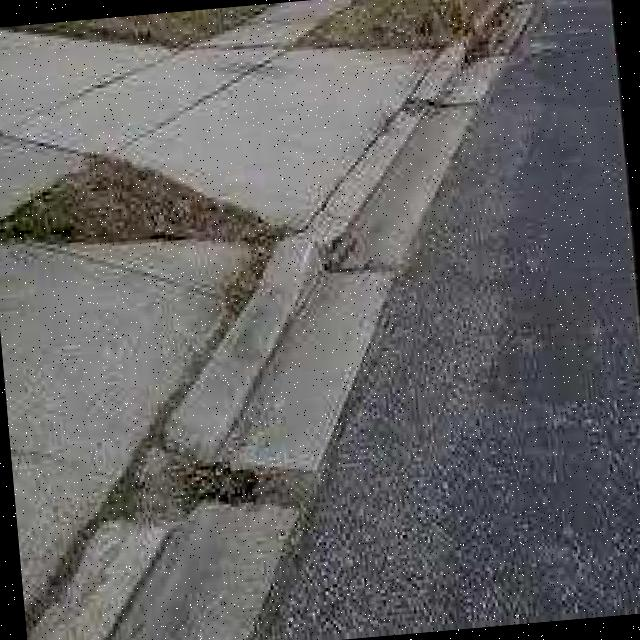curb: (173, 226, 377, 640), (37, 429, 218, 640), (381, 1, 556, 136), (300, 143, 441, 277)
